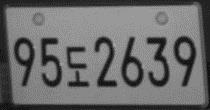2: (94, 35, 117, 88)
3: (146, 36, 170, 87)
5: (39, 36, 62, 87)
6: (120, 35, 144, 88)
9: (173, 34, 197, 88), (12, 36, 35, 86)
도: (65, 45, 89, 88)
